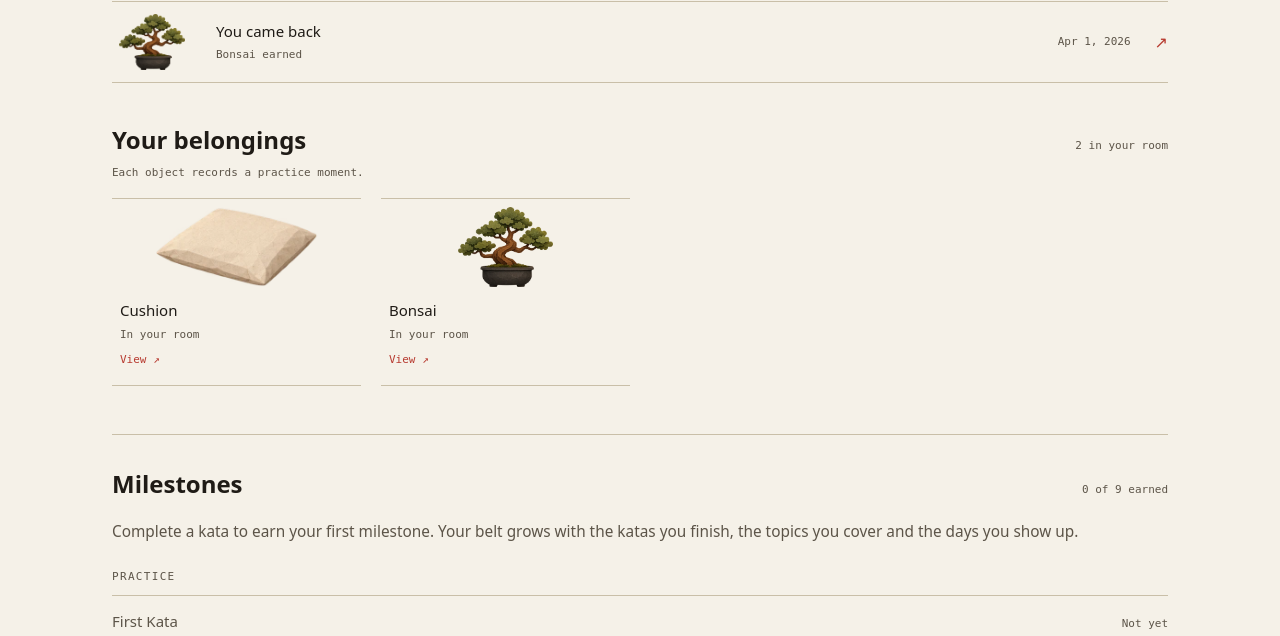
Scenario: BeltsPage › the room › opens a belonging with the story of its moment
This screenshot has width=1280, height=636.
(page scrolled)
Click the button "Bonsai In your room View ↗".
click(506, 292)  # box [381,199,630,385]
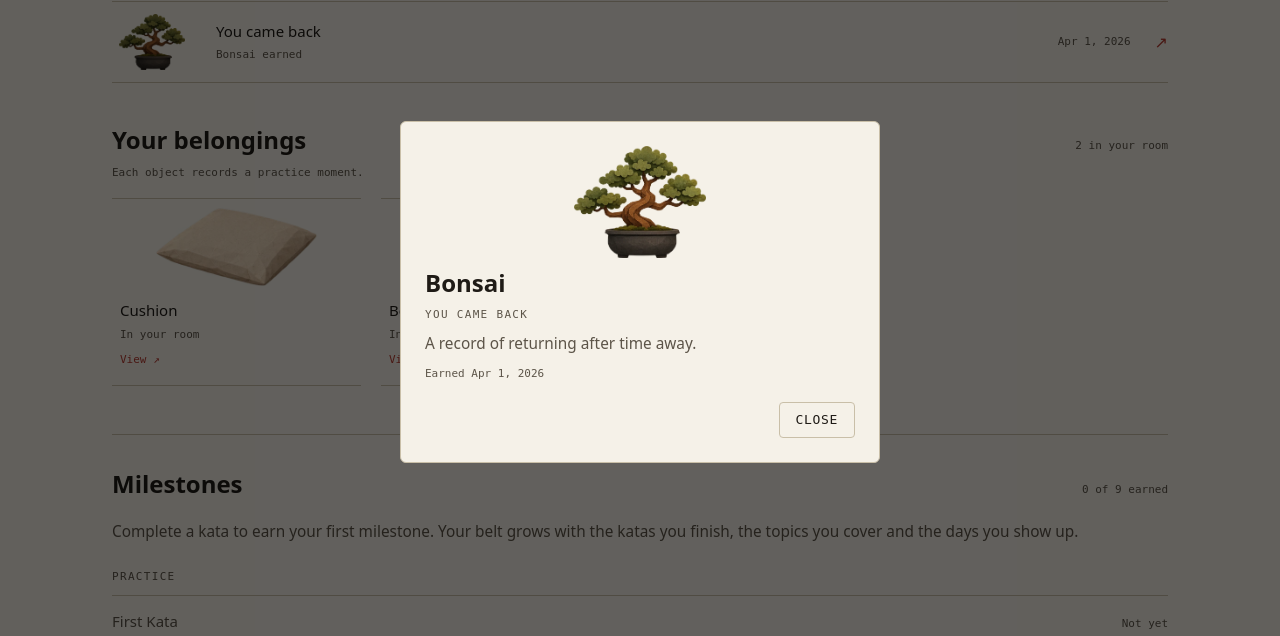
expect the text "A record of returning after time away." is shown: met, box [425,333,696,354]
expect the text "Earned Apr 1, 2026" is shown: met, box [425,366,544,380]
Click the button "Close".
click(817, 420)  # box [779,402,855,438]
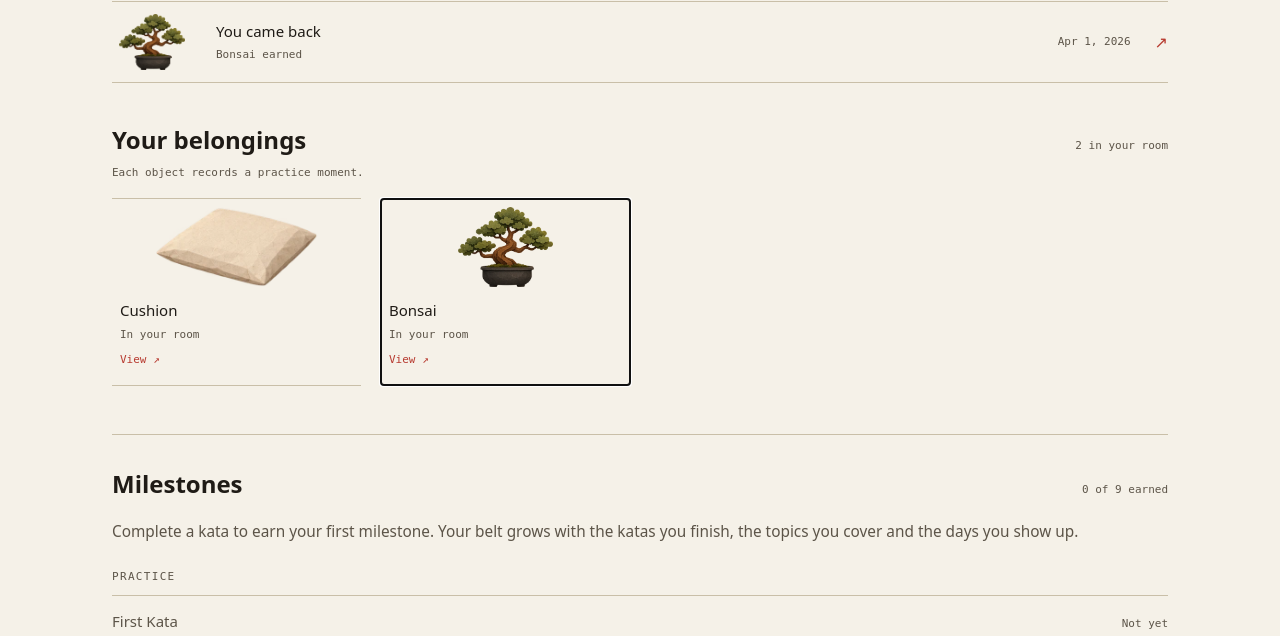
expect the text "A record of returning after time away." is gone: met
